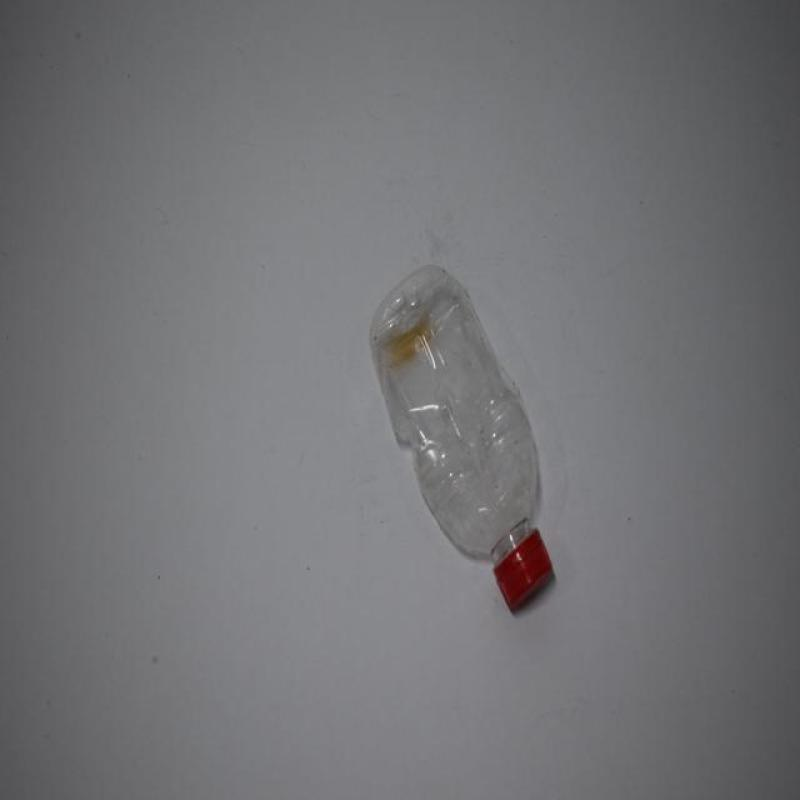botella: (368, 266, 554, 614)
